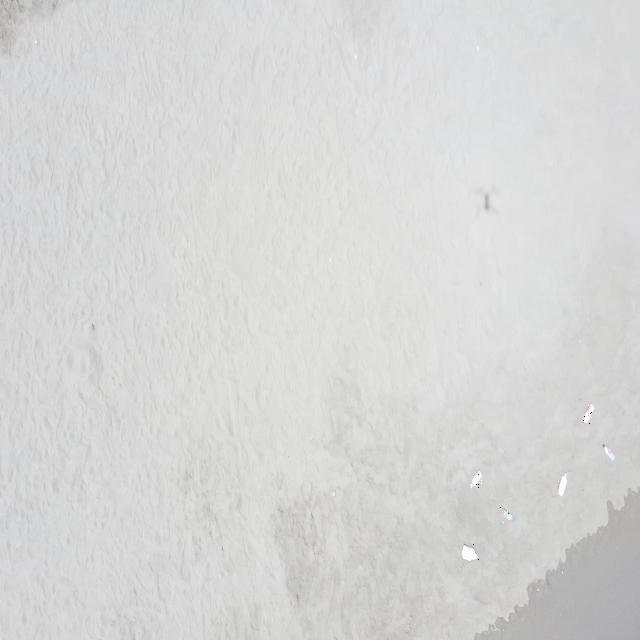Garbage: (460, 544, 477, 559), (557, 472, 566, 495), (582, 404, 592, 423), (604, 444, 615, 460), (500, 506, 512, 520), (470, 471, 480, 487)
